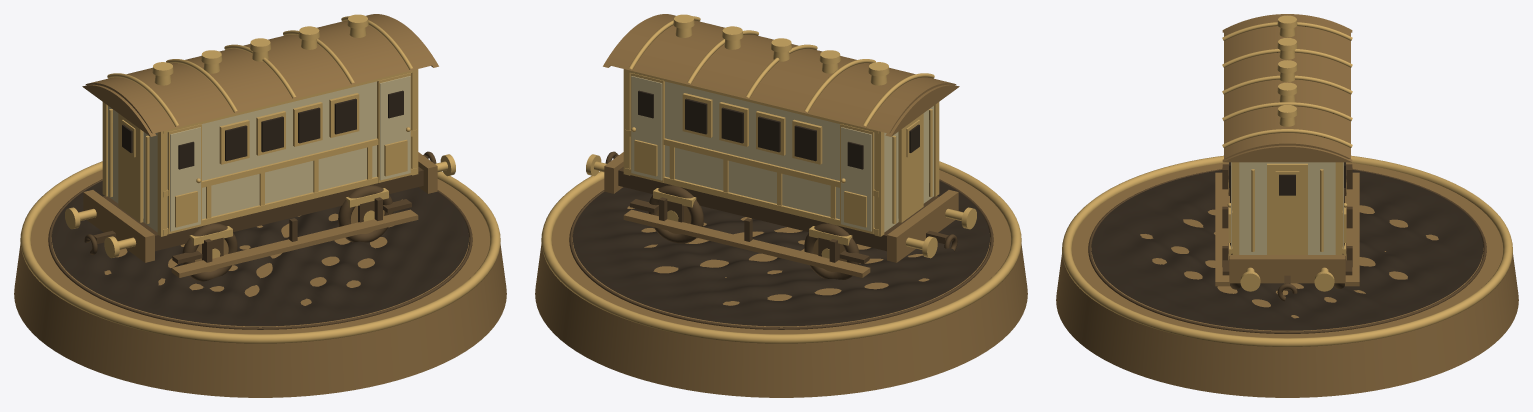
Rendered from ch2-piece-carriage.glb.
The picture shows the model from 3 angles, left to right: view 1: azimuth 30°, elevation 25°; view 2: azimuth 150°, elevation 25°; view 3: azimuth 270°, elevation 25°; orthographic projection. The views are drawn at different scales.
Visible parts, largest first — view 1: base_body, base_field, roof, body, base_lip, chassis, footboard_r, buffer_beam_b, base_ring, end_door_frame_b, door_r1, door_r0 (+25 smaller); view 2: base_body, base_field, roof, body, base_lip, chassis, footboard_l, buffer_beam_b, base_ring, end_door_frame_b, door_l1, door_l0 (+25 smaller); view 3: base_body, base_field, roof, base_lip, body, end_door_frame_f, buffer_beam_f, base_ring, roof_cap_f, footboard_r, footboard_l, corner_post_2 (+6 smaller).
Part boxes in pixels (bbox=[...]): base_body: bbox=[14, 170, 506, 397]; base_field: bbox=[52, 181, 468, 326]; roof: bbox=[85, 14, 435, 133]; body: bbox=[108, 81, 376, 232]; base_lip: bbox=[20, 161, 500, 343]; chassis: bbox=[103, 167, 423, 251]; footboard_r: bbox=[171, 209, 418, 277]; buffer_beam_b: bbox=[83, 190, 154, 262]; base_ring: bbox=[48, 179, 472, 329]; end_door_frame_b: bbox=[118, 113, 143, 222]; door_r1: bbox=[379, 76, 410, 180]; door_r0: bbox=[170, 127, 200, 231]; base_body: bbox=[535, 170, 1027, 397]; base_field: bbox=[573, 181, 989, 326]; roof: bbox=[606, 14, 956, 133]; body: bbox=[665, 81, 933, 232]; base_lip: bbox=[541, 161, 1021, 343]; chassis: bbox=[618, 167, 938, 251]; footboard_l: bbox=[623, 209, 870, 277]; buffer_beam_b: bbox=[887, 190, 958, 262]; base_ring: bbox=[569, 179, 993, 329]; end_door_frame_b: bbox=[898, 113, 923, 222]; door_l1: bbox=[631, 76, 662, 180]; door_l0: bbox=[841, 127, 871, 231]; base_body: bbox=[1056, 162, 1518, 397]; base_field: bbox=[1091, 170, 1483, 330]; roof: bbox=[1224, 14, 1350, 158]; base_lip: bbox=[1062, 155, 1512, 346]; body: bbox=[1239, 162, 1335, 254]; end_door_frame_f: bbox=[1267, 163, 1307, 254]; buffer_beam_f: bbox=[1229, 255, 1345, 283]; base_ring: bbox=[1088, 169, 1486, 333]; roof_cap_f: bbox=[1222, 145, 1352, 162]; footboard_r: bbox=[1215, 172, 1229, 286]; footboard_l: bbox=[1345, 172, 1359, 286]; corner_post_2: bbox=[1232, 162, 1239, 254].
Bounding box in the file's own units: 0.1751 × 0.0985 × 0.1751.
